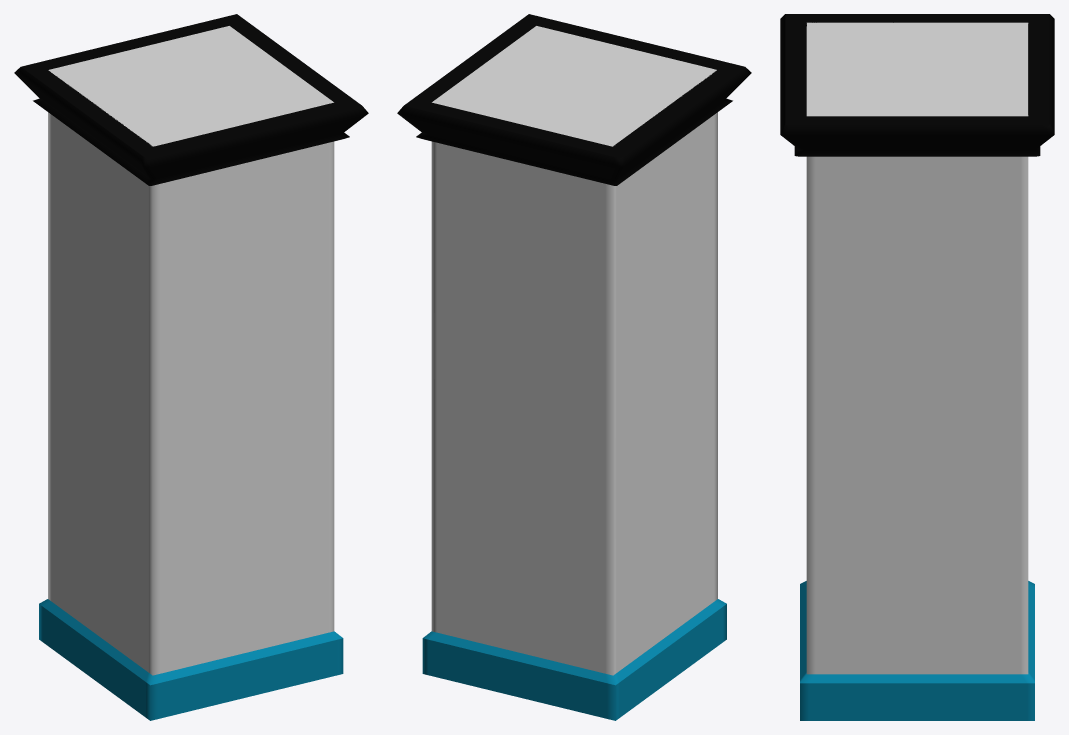
The model's file is Neo_Pillar_01_L.fbx.
The picture shows the model from 3 angles, left to right: view 1: azimuth 30°, elevation 25°; view 2: azimuth 150°, elevation 25°; view 3: azimuth 270°, elevation 25°; orthographic projection. The views are drawn at different scales.
Parts seen in each view (by area): view 1: Neo_Pillar_01_L_LOD00; view 2: Neo_Pillar_01_L_LOD00; view 3: Neo_Pillar_01_L_LOD00.
Part boxes in pixels (x1,y1,x2,y2): Neo_Pillar_01_L_LOD00: (14,14,368,720); Neo_Pillar_01_L_LOD00: (397,14,751,720); Neo_Pillar_01_L_LOD00: (780,14,1054,720).
Size of what is drawn, in the model's own units: 124 by 300 by 124.
